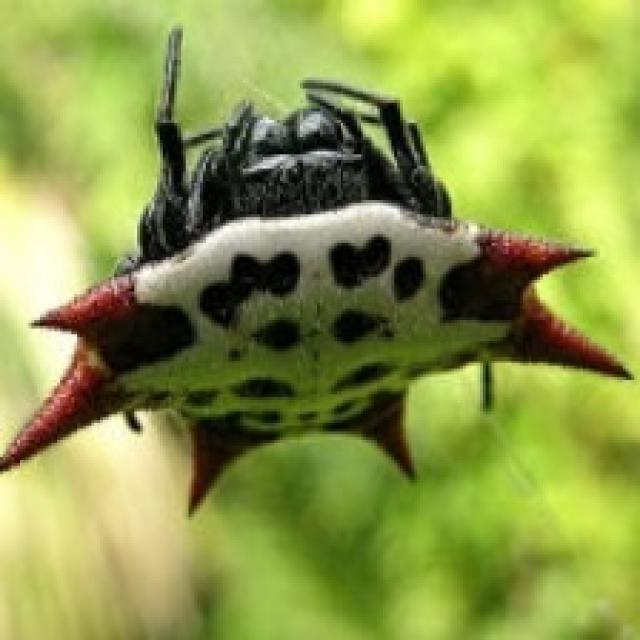Non venomous spider: (6, 93, 600, 543), (47, 166, 547, 455)
